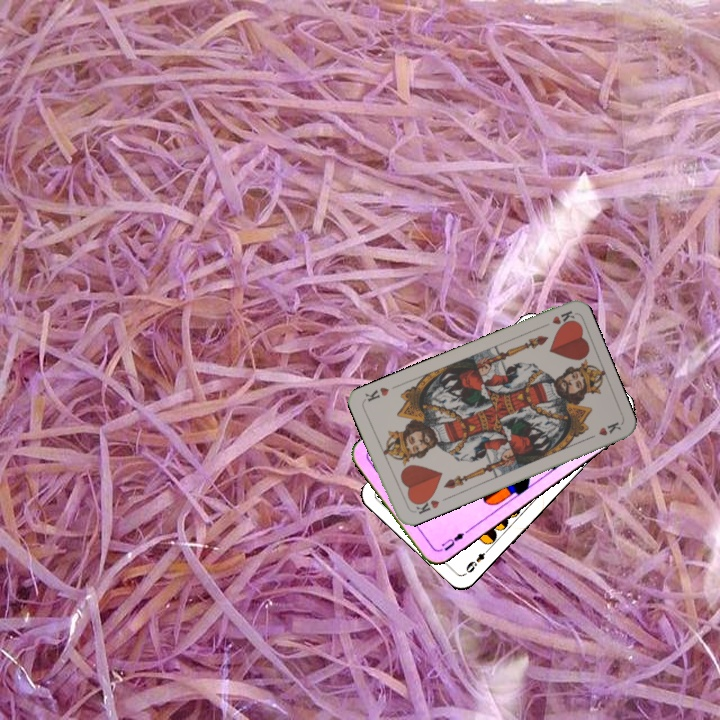E9: (461, 543, 492, 575)
EU: (435, 529, 467, 554)
HK: (536, 306, 577, 331), (408, 492, 442, 517)
